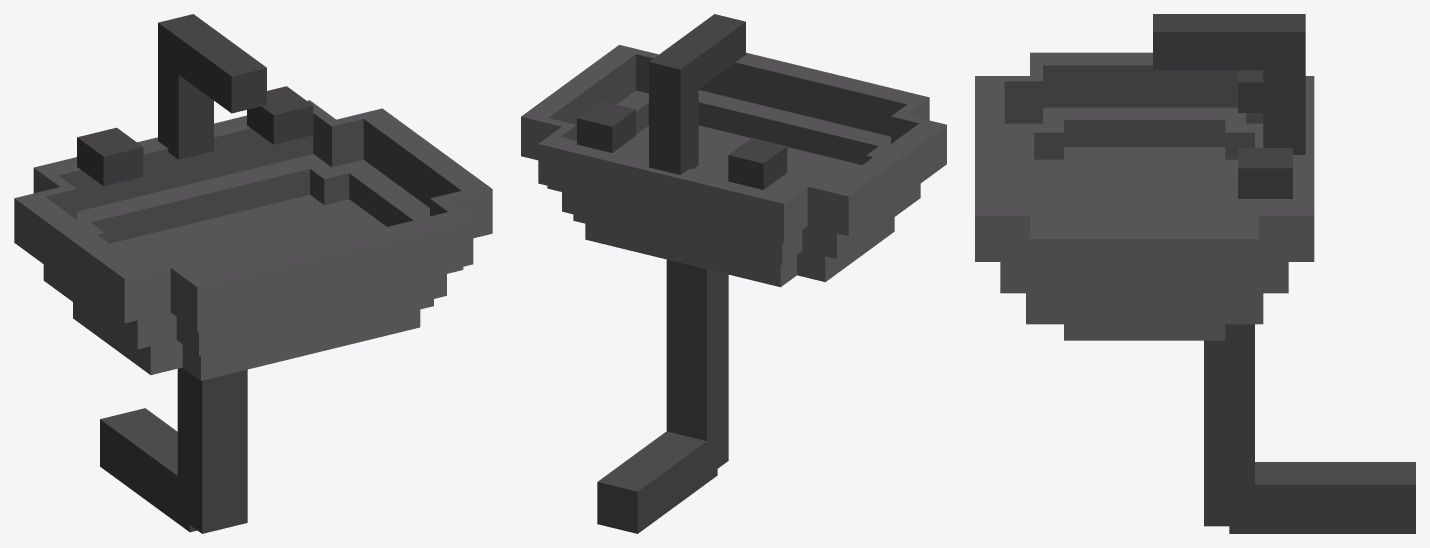
The model's file is washbasin.glb.
The picture shows the model from 3 angles, left to right: view 1: azimuth 30°, elevation 25°; view 2: azimuth 150°, elevation 25°; view 3: azimuth 270°, elevation 25°; orthographic projection. The views are drawn at different scales.
Visible parts, largest first — view 1: washbasin_Sculpted_Basin, washbasin_Drain_Assembly, washbasin_Faucet_Assembly, washbasin_Tap_-1, washbasin; view 2: washbasin_Sculpted_Basin, washbasin_Drain_Assembly, washbasin_Faucet_Assembly, washbasin_Tap_-1, washbasin; view 3: washbasin_Sculpted_Basin, washbasin_Drain_Assembly, washbasin_Faucet_Assembly, washbasin, washbasin_Tap_-1.
Boxes of the visible parts, x1,y1,x2,y2 form: washbasin_Sculpted_Basin: (14,100,492,380); washbasin_Drain_Assembly: (100,367,247,533); washbasin_Faucet_Assembly: (158,14,266,159); washbasin_Tap_-1: (77,127,143,186); washbasin: (247,86,313,144); washbasin_Sculpted_Basin: (521,45,946,287); washbasin_Drain_Assembly: (597,259,728,533); washbasin_Faucet_Assembly: (649,14,745,174); washbasin_Tap_-1: (728,138,787,189); washbasin: (577,101,635,152); washbasin_Sculpted_Basin: (975,52,1314,340); washbasin_Drain_Assembly: (1204,324,1415,533); washbasin_Faucet_Assembly: (1153,14,1305,154); washbasin: (1238,148,1292,198); washbasin_Tap_-1: (1238,70,1263,112).
Size of the model in its own units: 0.52 by 0.65 by 0.52.
1 material, 1 textured.
